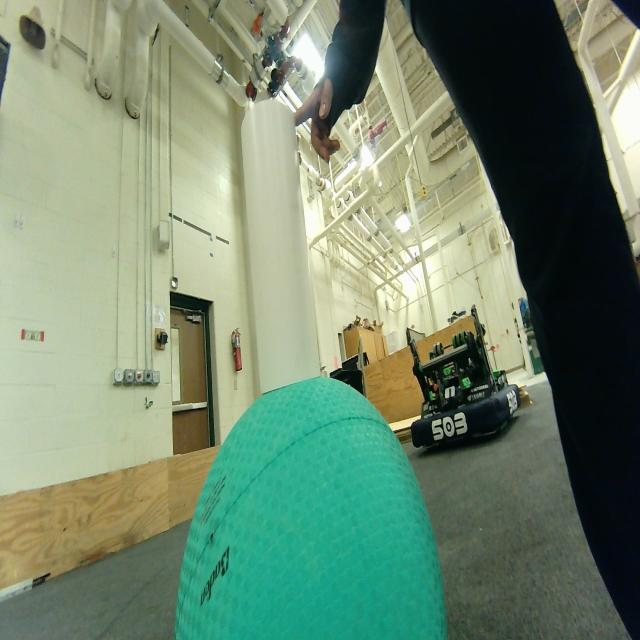algae: (176, 377, 446, 639)
coral: (241, 100, 320, 393)
